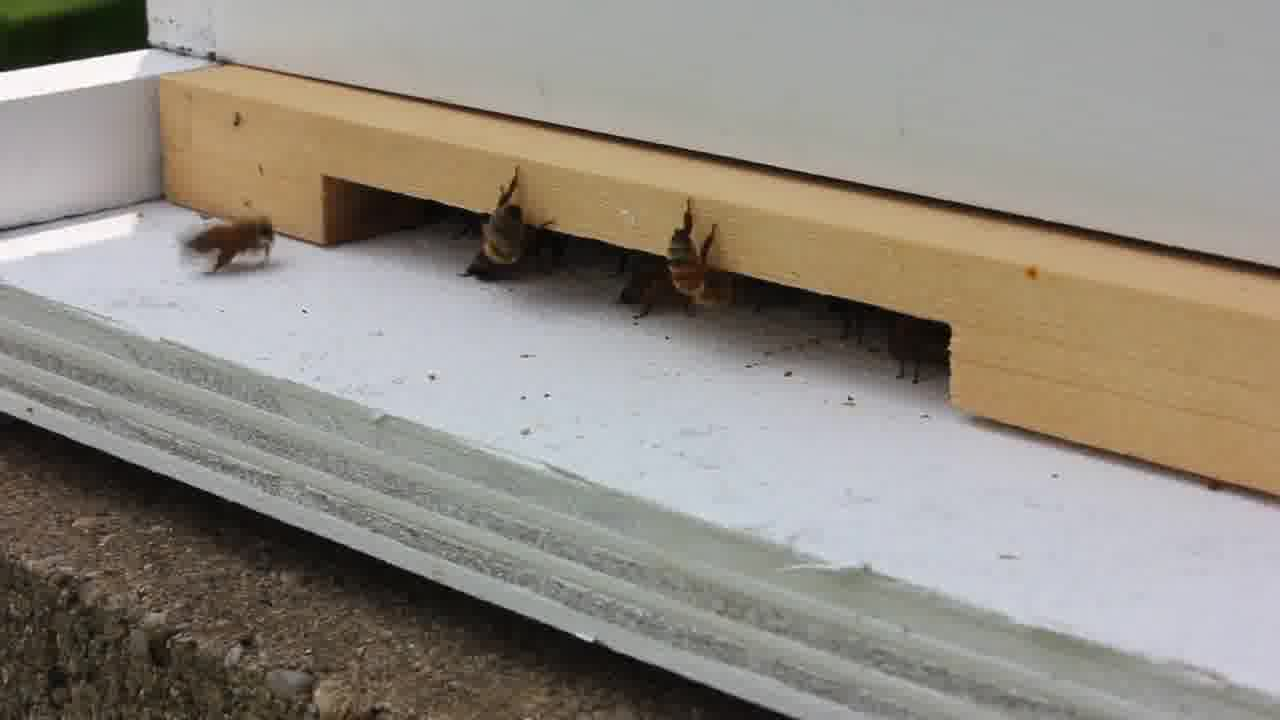pollen: (183, 219, 286, 273)
